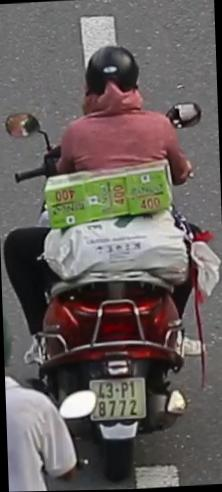LP: (93, 371, 149, 422)
helmet: (80, 41, 148, 125)
